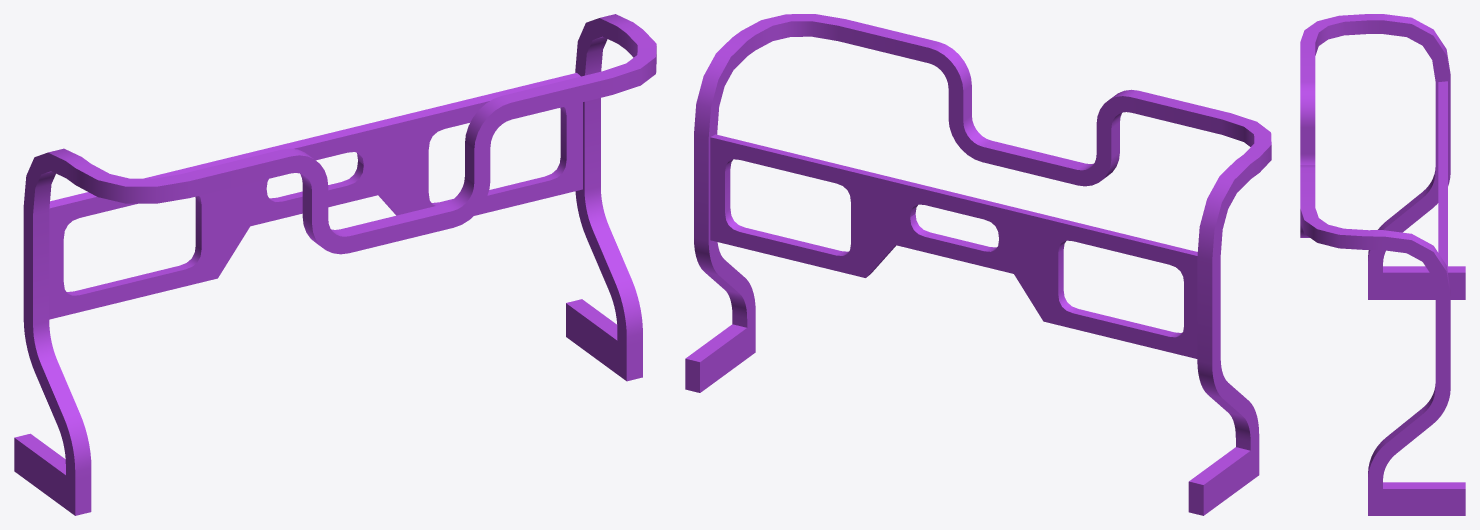
The model's file is Rallings_B_2x1m.FBX.
The picture shows the model from 3 angles, left to right: view 1: azimuth 30°, elevation 25°; view 2: azimuth 150°, elevation 25°; view 3: azimuth 270°, elevation 25°; orthographic projection. The views are drawn at different scales.
Parts seen in each view (by area): view 1: Rallings_B_2x1m; view 2: Rallings_B_2x1m; view 3: Rallings_B_2x1m.
Boxes of the visible parts, left/top/right/bottom form: Rallings_B_2x1m: left=14, top=14, right=656, bottom=515; Rallings_B_2x1m: left=685, top=14, right=1271, bottom=515; Rallings_B_2x1m: left=1300, top=14, right=1465, bottom=515.
Size of the model in its own units: 175 by 103 by 55.01.
